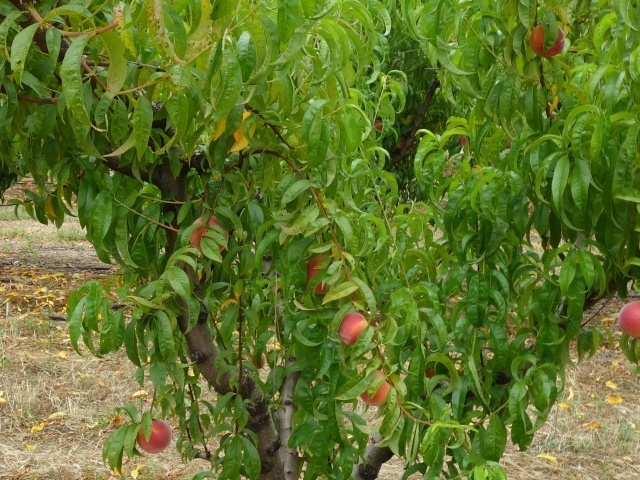peach: (183, 211, 230, 261), (300, 248, 339, 298), (134, 413, 174, 455), (527, 18, 569, 58), (358, 367, 394, 408), (336, 309, 371, 348), (617, 293, 640, 340)
